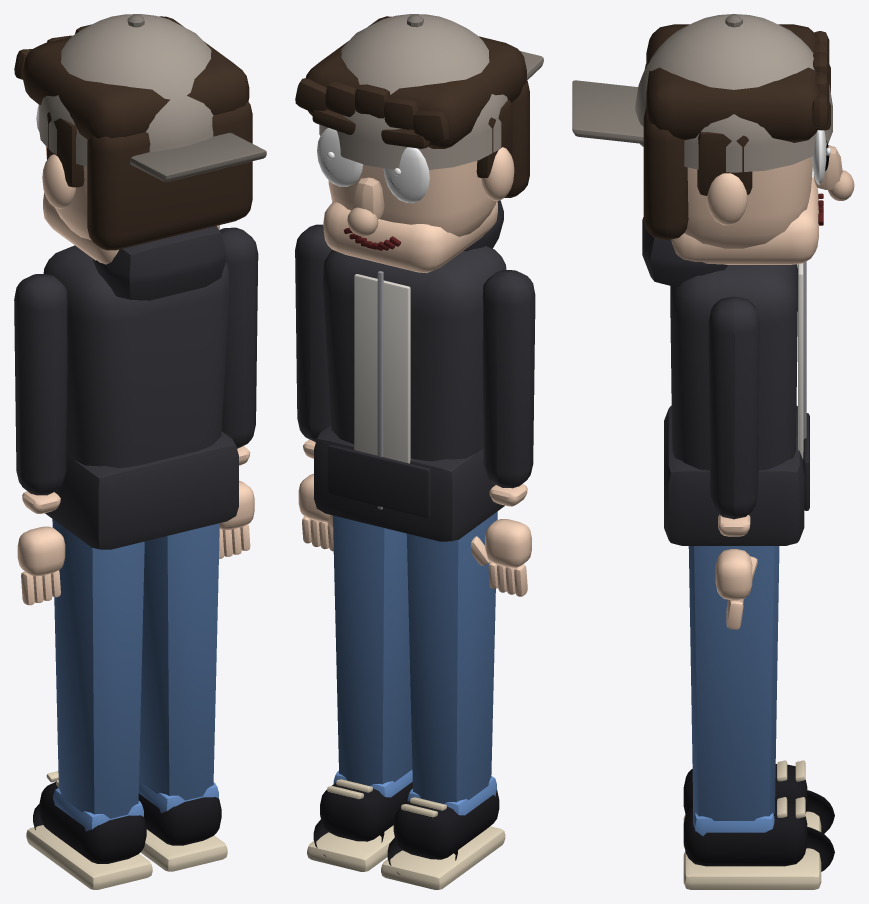
Rendered from rookie.glb.
3 views of the same model, side by side, from view 1: azimuth 30°, elevation 25°; view 2: azimuth 150°, elevation 25°; view 3: azimuth 270°, elevation 25° (orthographic).
Visible parts, largest first — view 1: torso, legL, legR, hair_head_hair_16, armL, hat_head_hat_17, hairtop_head_hair_16, armR, hat_head_hat2_18, head; view 2: torso, legL, legR, head, armL, hat_head_hat_17, hairtop_head_hair_16, armR, hair_head_hair_16, hat_head_hat2_18; view 3: legR, torso, head, armR, hat_head_hat_17, hairtop_head_hair_16, hair_head_hair_16, hat_head_hat2_18, legL.
Part boxes in pixels (bbox=[...]): torso: bbox=[43, 226, 238, 549]; legL: bbox=[26, 519, 152, 889]; legR: bbox=[138, 523, 227, 871]; hair_head_hair_16: bbox=[47, 102, 252, 250]; armL: bbox=[14, 274, 67, 605]; hat_head_hat_17: bbox=[38, 14, 213, 166]; hairtop_head_hair_16: bbox=[14, 16, 249, 139]; armR: bbox=[219, 227, 258, 558]; hat_head_hat2_18: bbox=[127, 14, 266, 181]; head: bbox=[36, 106, 219, 264]; torso: bbox=[314, 200, 506, 541]; legL: bbox=[381, 511, 505, 889]; legR: bbox=[307, 515, 412, 871]; head: bbox=[312, 109, 514, 273]; armL: bbox=[471, 270, 535, 596]; hat_head_hat_17: bbox=[319, 14, 507, 169]; hairtop_head_hair_16: bbox=[295, 16, 526, 148]; armR: bbox=[295, 224, 333, 551]; hair_head_hair_16: bbox=[476, 79, 529, 197]; hat_head_hat2_18: bbox=[407, 14, 543, 80]; legR: bbox=[683, 546, 834, 889]; torso: bbox=[642, 217, 809, 545]; head: bbox=[671, 64, 854, 264]; armR: bbox=[708, 296, 759, 629]; hat_head_hat_17: bbox=[635, 14, 832, 172]; hairtop_head_hair_16: bbox=[646, 24, 829, 142]; hair_head_hair_16: bbox=[643, 64, 752, 240]; hat_head_hat2_18: bbox=[572, 14, 742, 143]; legL: bbox=[683, 760, 834, 848].
Size of the model in its own units: 0.5913 by 2.03 by 0.6149.
